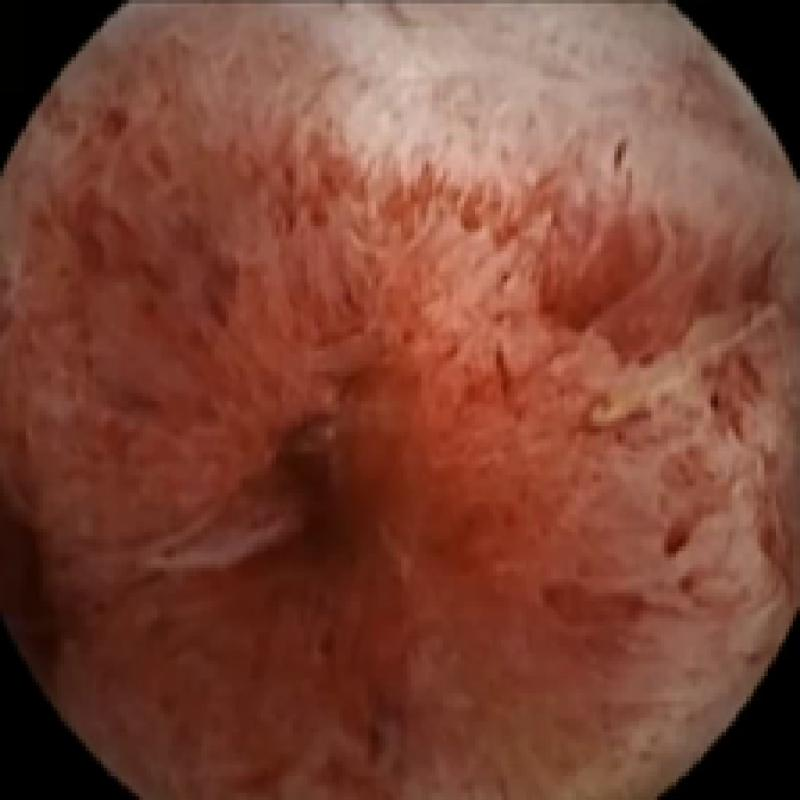bleeding: (3, 132, 800, 800)
